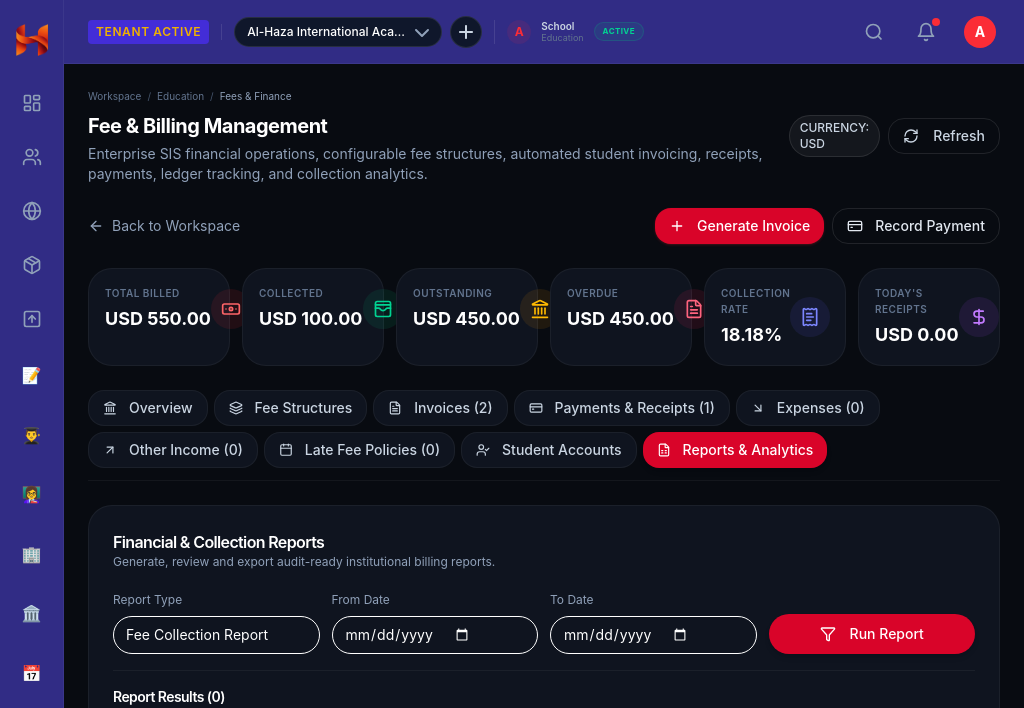
Test: FeesFinancePage › switches to reports tab, runs collection reports, and allows CSV export
Check: the heading "Financial & Collection Reports" is shown, box 113,532 -> 324,552
What coordinates should you click on to do the following:
click the button "Run Report"
I would click on:
 (872, 634)
Its box is 768,614 -> 975,654.
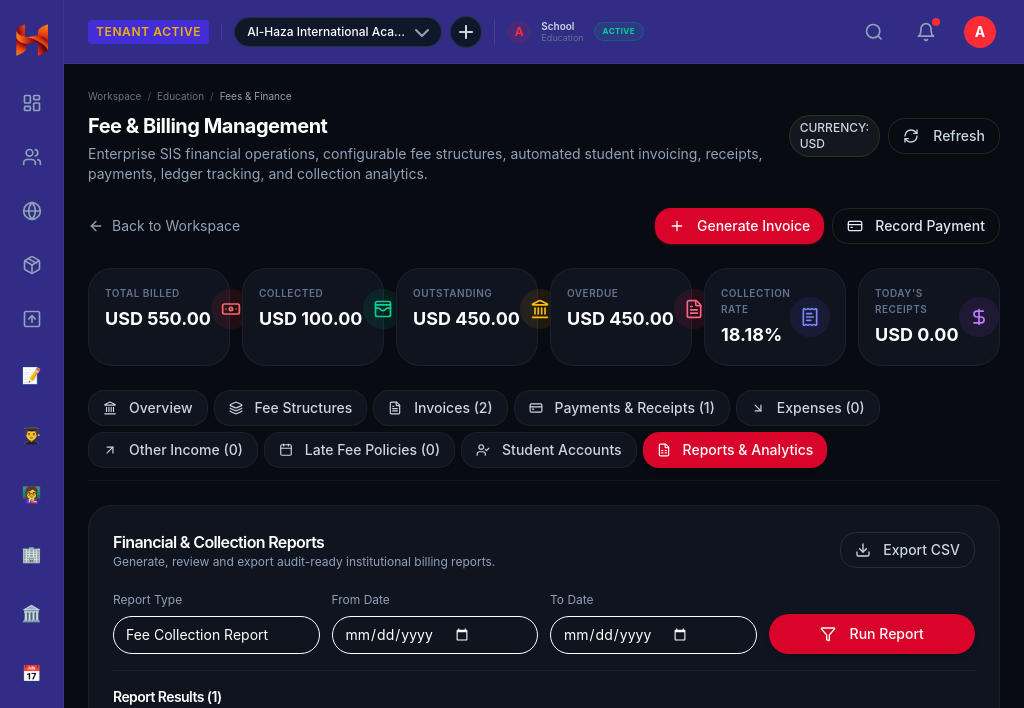
Check: the button "Export CSV" is shown, box 840,532 -> 975,568
